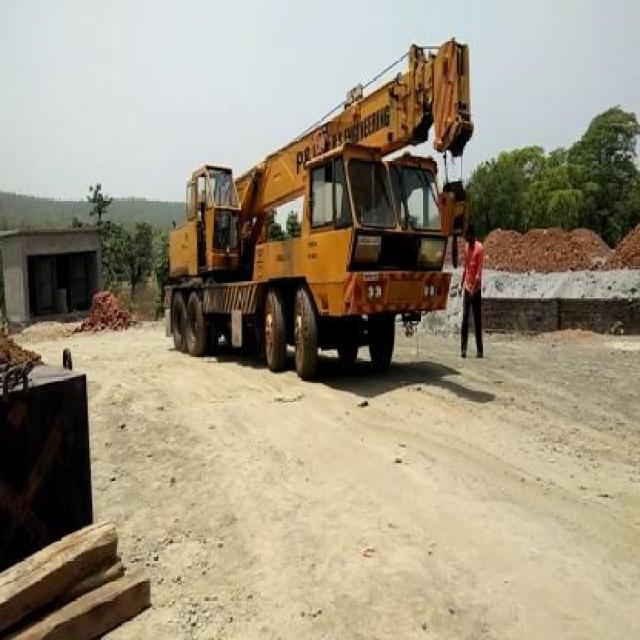Mobile Crane: (162, 41, 472, 379)
